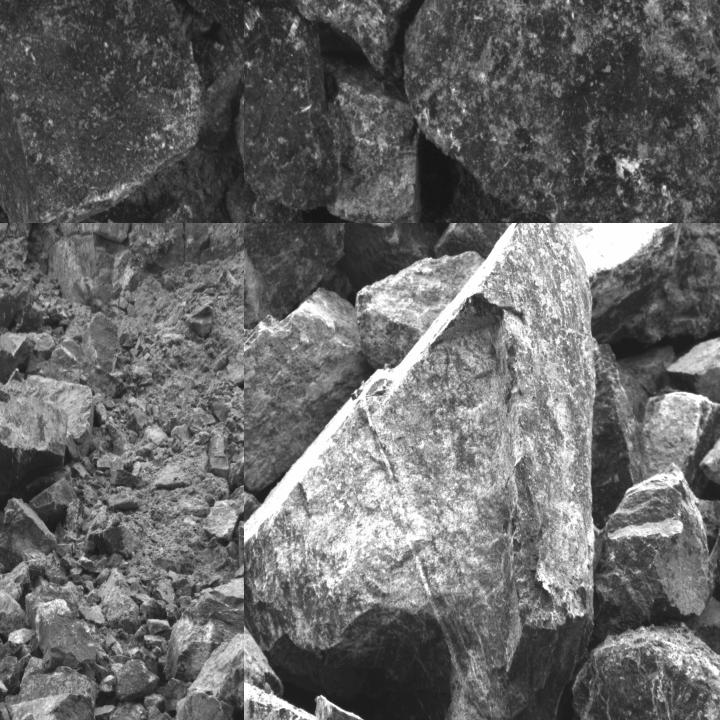stone: (244, 223, 597, 719), (404, 0, 719, 222), (0, 0, 201, 222), (433, 223, 703, 341), (244, 288, 369, 491), (594, 462, 710, 635), (244, 0, 338, 213), (244, 223, 347, 401), (323, 55, 422, 222), (565, 620, 719, 719), (244, 0, 411, 70), (154, 596, 243, 713), (0, 375, 74, 504), (640, 390, 719, 496), (25, 582, 97, 671), (5, 656, 101, 719), (25, 373, 94, 452), (190, 632, 243, 719), (0, 498, 60, 570), (662, 337, 719, 404), (97, 566, 142, 630), (139, 192, 227, 222), (0, 279, 49, 332), (210, 577, 243, 639), (0, 331, 36, 384), (117, 660, 161, 701), (176, 688, 234, 719), (203, 500, 239, 544), (35, 482, 79, 516), (0, 587, 24, 636), (209, 428, 232, 476), (228, 171, 243, 222), (79, 603, 107, 628), (109, 701, 147, 719), (230, 441, 243, 483), (229, 483, 243, 518), (146, 618, 173, 636)
